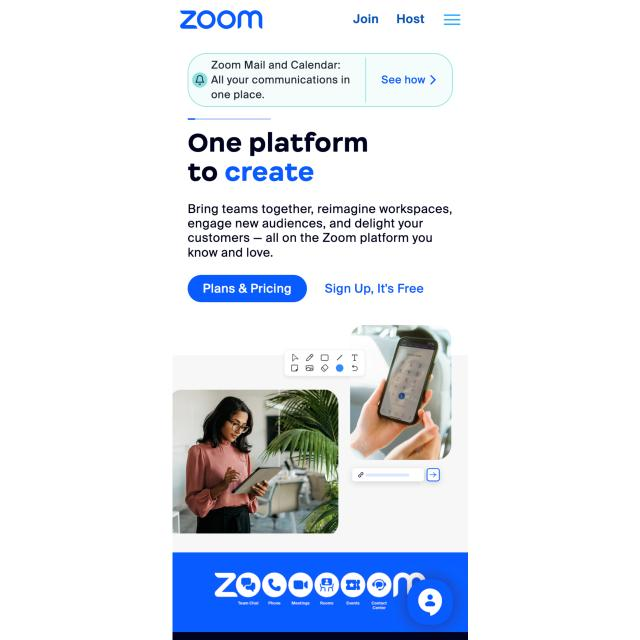CheckBox: (185, 273, 307, 303), (322, 278, 426, 299)
Input field: (187, 201, 457, 263)
badge: (172, 553, 468, 639)
bag: (175, 0, 468, 46)
copy: (170, 322, 468, 551)
data feed: (201, 280, 294, 296)
date picker: (177, 6, 265, 33)
decoration: (351, 12, 426, 26), (443, 13, 462, 28)
heading: (186, 115, 273, 122)
image: (185, 133, 372, 184)
